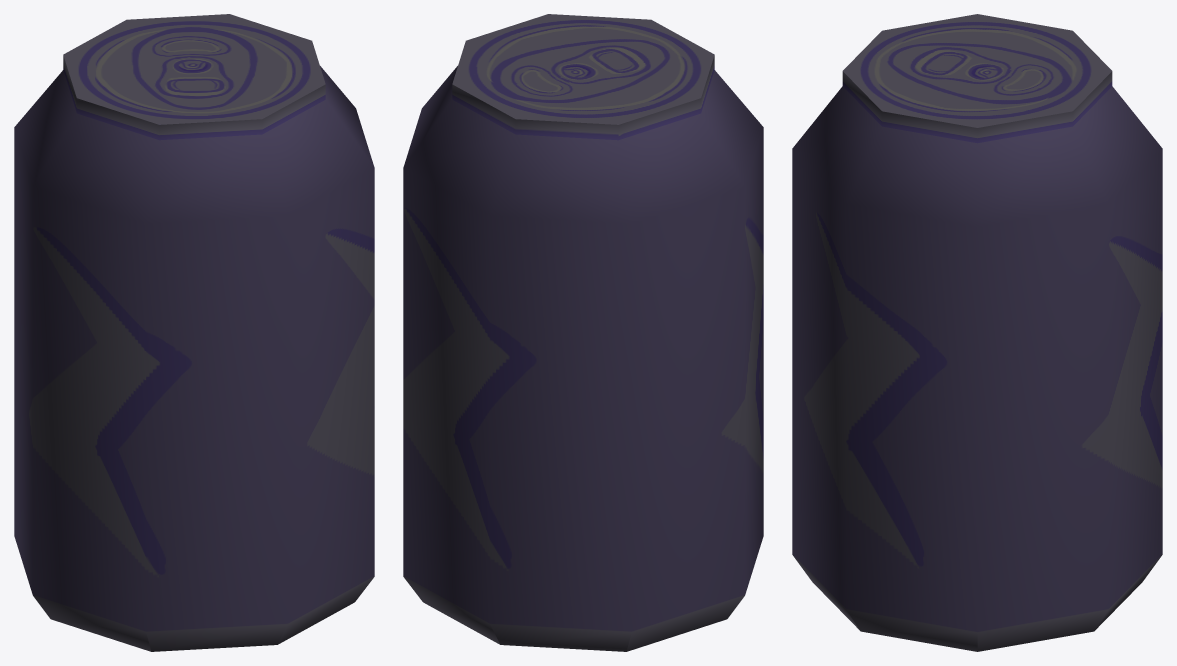
The model's file is soda_export03.fbx.
3 renders of one model, left to right at view 1: azimuth 30°, elevation 25°; view 2: azimuth 150°, elevation 25°; view 3: azimuth 270°, elevation 25°, orthographic.
Parts seen in each view (by area): view 1: pCylinder1; view 2: pCylinder1; view 3: pCylinder1.
Part boxes in pixels (x1,y1,x2,y2): pCylinder1: (14, 14, 374, 651); pCylinder1: (403, 14, 763, 651); pCylinder1: (792, 14, 1162, 651).
Size of the model in its own units: 0.6798 by 1.03 by 0.6798.
